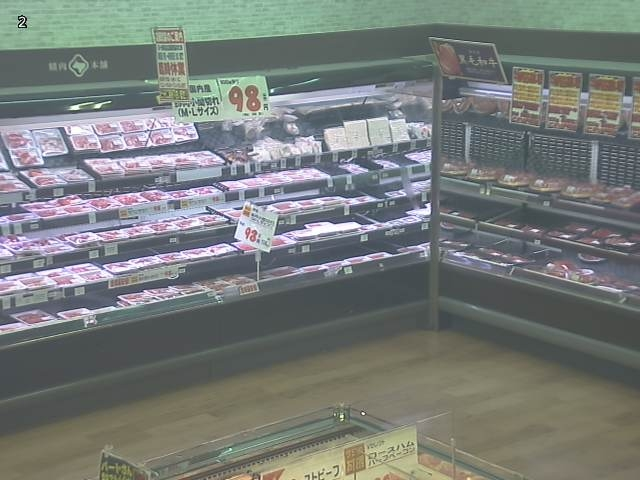meat: (0, 250, 392, 333), (1, 241, 257, 298), (0, 207, 241, 262), (0, 185, 223, 226), (272, 215, 420, 248), (64, 118, 200, 153), (86, 150, 225, 178), (256, 194, 380, 217), (0, 129, 69, 167), (220, 167, 329, 190), (20, 167, 92, 187), (0, 172, 30, 193)
meatless: (0, 230, 429, 324), (44, 102, 418, 178), (92, 233, 237, 266), (274, 203, 411, 234), (163, 174, 249, 191), (340, 183, 402, 199), (313, 164, 350, 176)
